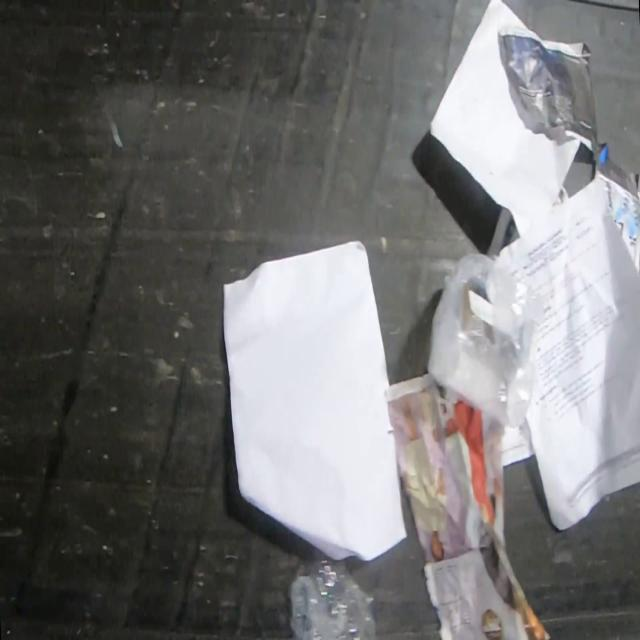rigid_plastic: (290, 554, 375, 639)
soft_plastic: (424, 249, 546, 432)
